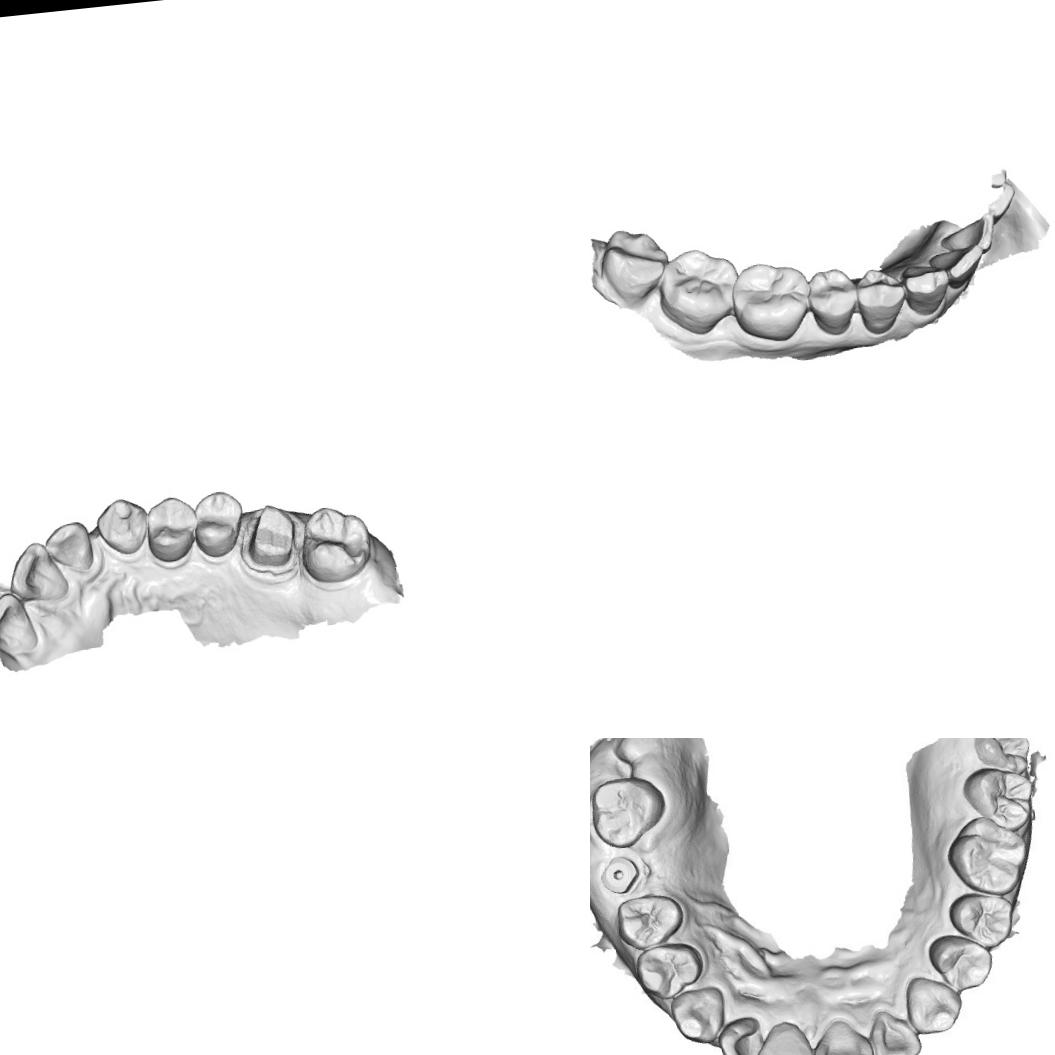canine: (902, 971, 964, 1038), (668, 981, 728, 1048), (92, 494, 152, 558), (900, 260, 956, 318)
crown: (240, 500, 301, 574)
implant: (597, 850, 640, 897)
incisor: (2, 537, 71, 606), (40, 518, 97, 577), (0, 587, 42, 660), (864, 1006, 925, 1055), (938, 210, 999, 257), (806, 1020, 879, 1055), (929, 246, 985, 291), (749, 1026, 818, 1055), (715, 1014, 761, 1055)
molar: (654, 244, 746, 336), (941, 813, 1036, 902), (728, 256, 816, 347), (296, 501, 377, 588), (596, 222, 674, 306), (590, 771, 669, 852), (958, 762, 1038, 834)
premolar: (926, 928, 998, 997), (632, 938, 708, 1002), (946, 888, 1018, 954), (188, 487, 250, 561), (613, 890, 687, 952), (141, 493, 202, 566), (853, 265, 910, 335), (805, 264, 858, 338)
